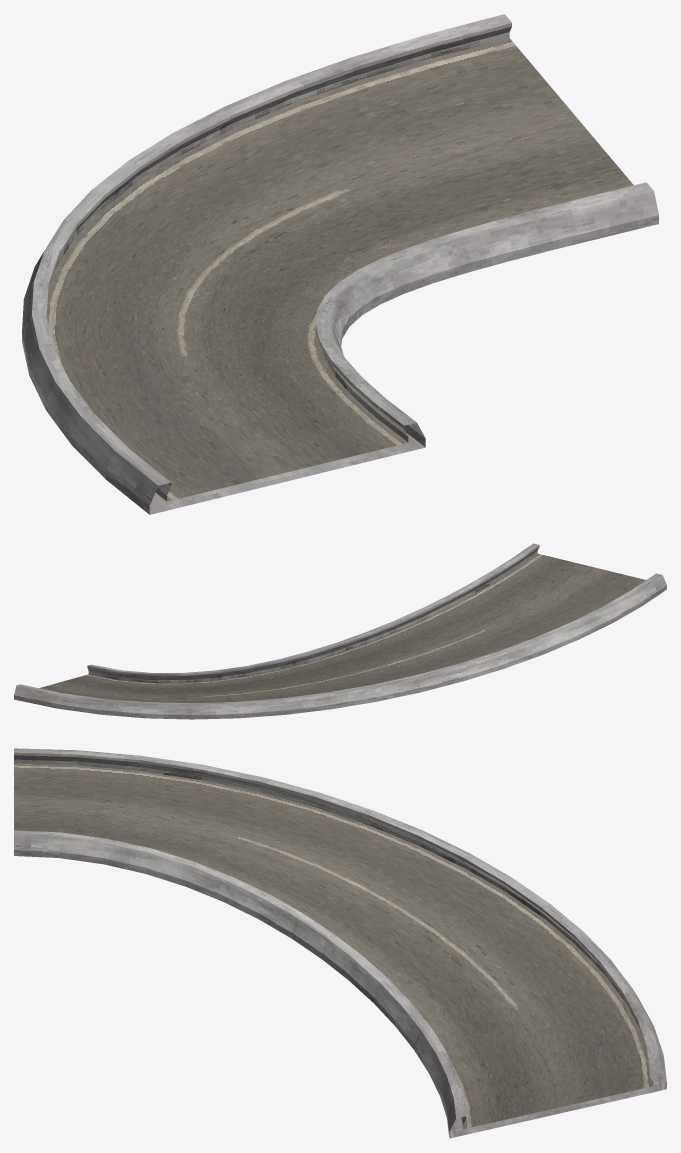
File: turn-right3x3.glb
3 renders of one model, top to bottom at view 1: azimuth 30°, elevation 25°; view 2: azimuth 150°, elevation 25°; view 3: azimuth 270°, elevation 25°, orthographic. The views are drawn at different scales.
Parts seen in each view (by area): view 1: road-Turn-Flat-HalfBankedRight-Down2-Right-Size3; view 2: road-Turn-Flat-HalfBankedRight-Down2-Right-Size3; view 3: road-Turn-Flat-HalfBankedRight-Down2-Right-Size3.
Boxes of the visible parts, x1,y1,x2,y2 form: road-Turn-Flat-HalfBankedRight-Down2-Right-Size3: [22, 14, 658, 514]; road-Turn-Flat-HalfBankedRight-Down2-Right-Size3: [14, 543, 666, 719]; road-Turn-Flat-HalfBankedRight-Down2-Right-Size3: [14, 748, 666, 1138].
Size of the model in its own units: 3 by 0.5938 by 3.
Materials: 2 (2 with a texture image).
